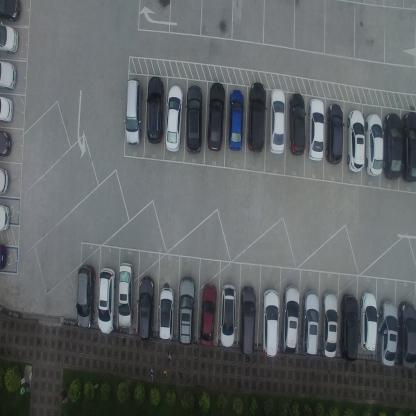car: (246, 82, 266, 153), (184, 83, 203, 155), (378, 300, 398, 368), (346, 108, 366, 174), (97, 267, 116, 335), (340, 294, 359, 362), (178, 276, 196, 347), (76, 263, 95, 330), (207, 81, 225, 151), (146, 75, 164, 145), (261, 288, 279, 358), (282, 284, 300, 354), (301, 291, 320, 357), (398, 301, 416, 370), (384, 112, 402, 180), (165, 84, 183, 152), (136, 276, 154, 342), (268, 88, 286, 154), (325, 103, 344, 165), (125, 77, 142, 146), (199, 283, 217, 348), (307, 97, 325, 162), (219, 283, 237, 347), (321, 291, 338, 358), (365, 113, 383, 176), (360, 290, 378, 352), (288, 92, 305, 156), (117, 262, 133, 330), (240, 285, 255, 356), (228, 88, 243, 151), (403, 111, 415, 184), (159, 286, 174, 341), (0, 22, 20, 55), (0, 58, 17, 92), (0, 0, 22, 23), (0, 94, 14, 124), (0, 127, 12, 156), (0, 166, 10, 196), (0, 204, 10, 232), (0, 242, 7, 270)
